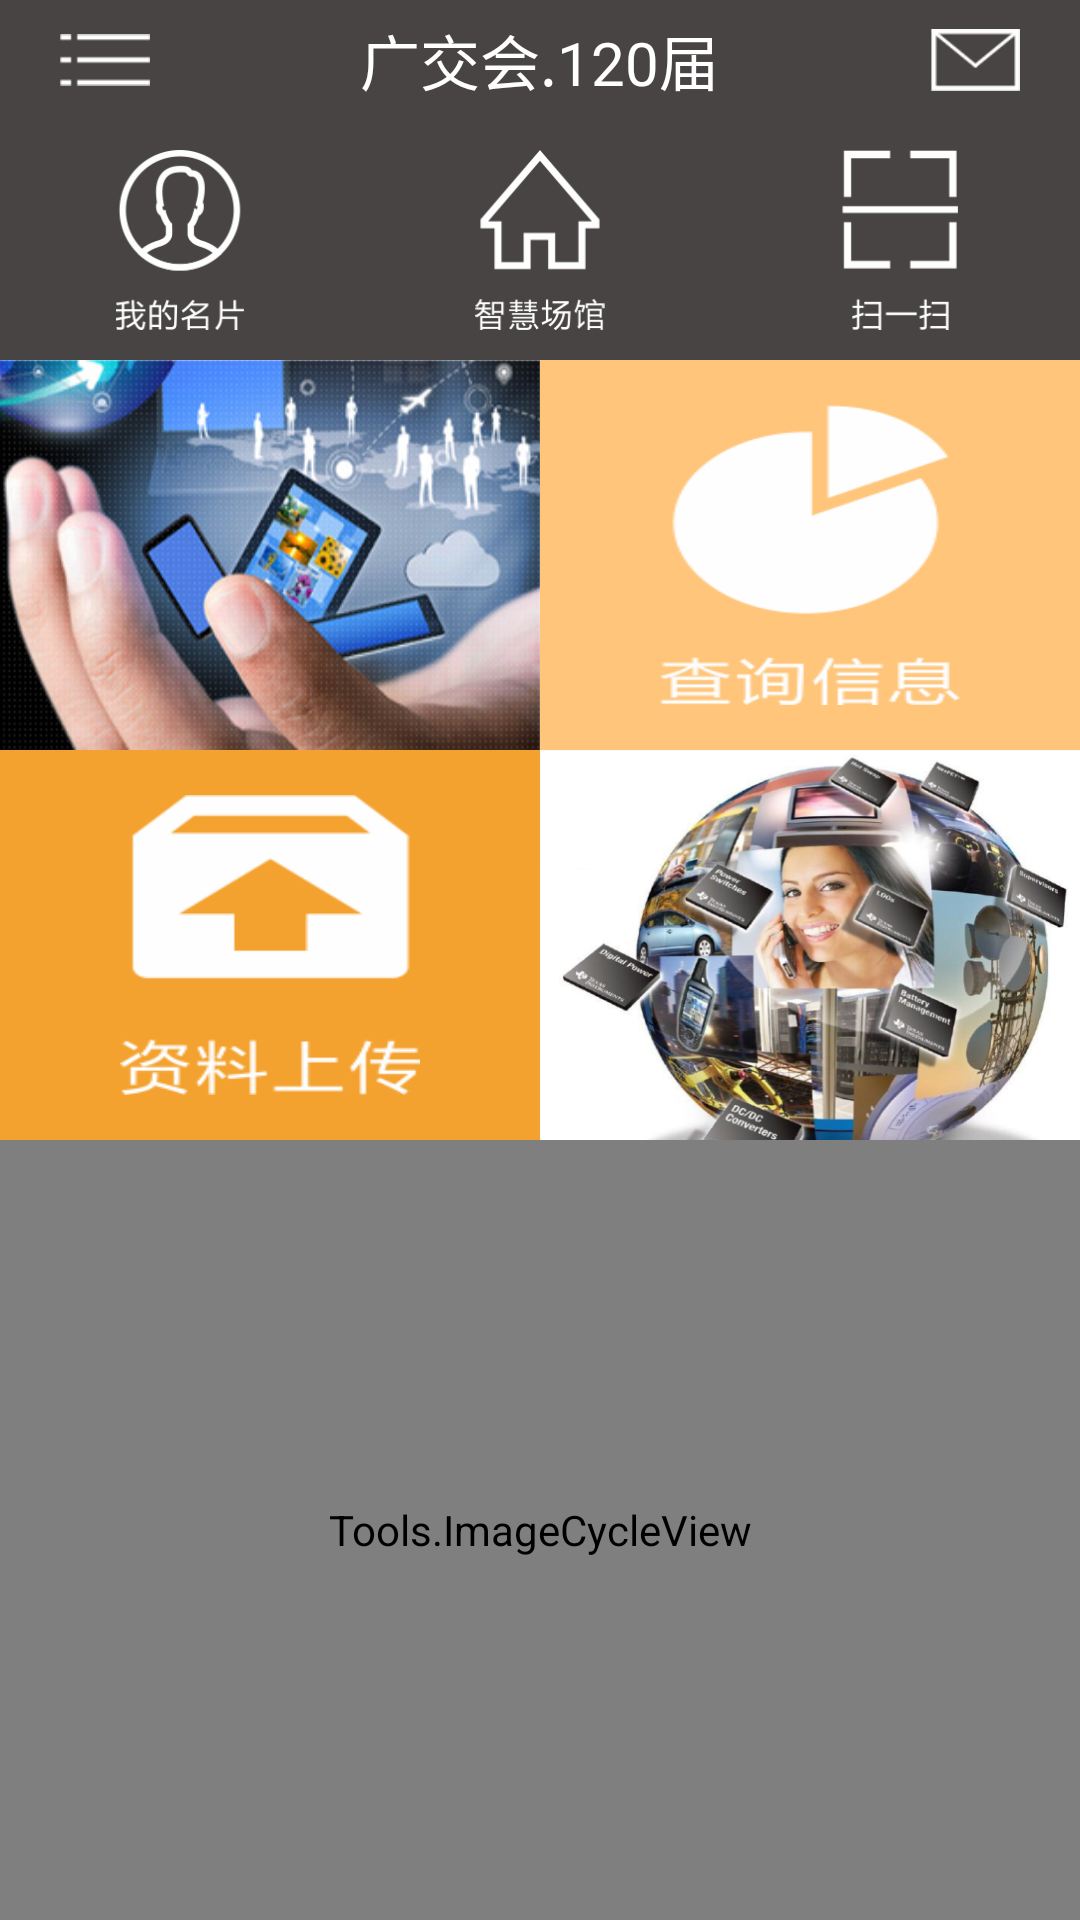

Screen size 1080×1920. Icon name, then its center in pixels as [x,y]:
left menu: [105,60]
message: [975,60]
